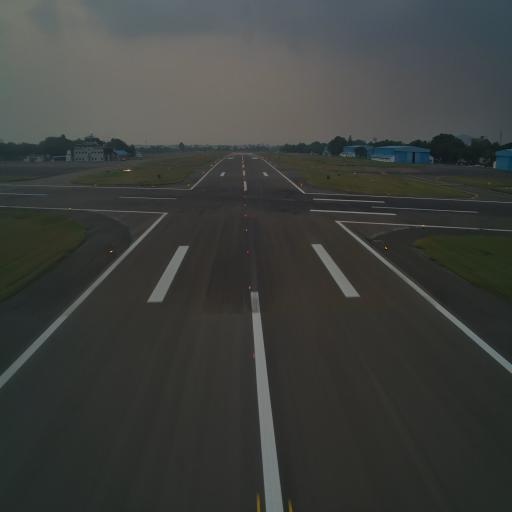on: (108, 247, 114, 256), (252, 351, 256, 362), (384, 244, 388, 252), (248, 284, 252, 290), (245, 226, 248, 234), (246, 248, 249, 255), (244, 212, 247, 219)
